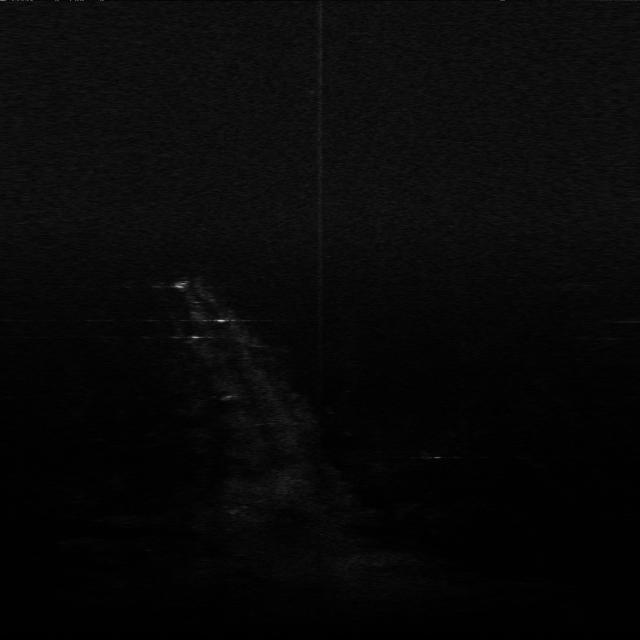rov: (167, 278, 196, 290)
